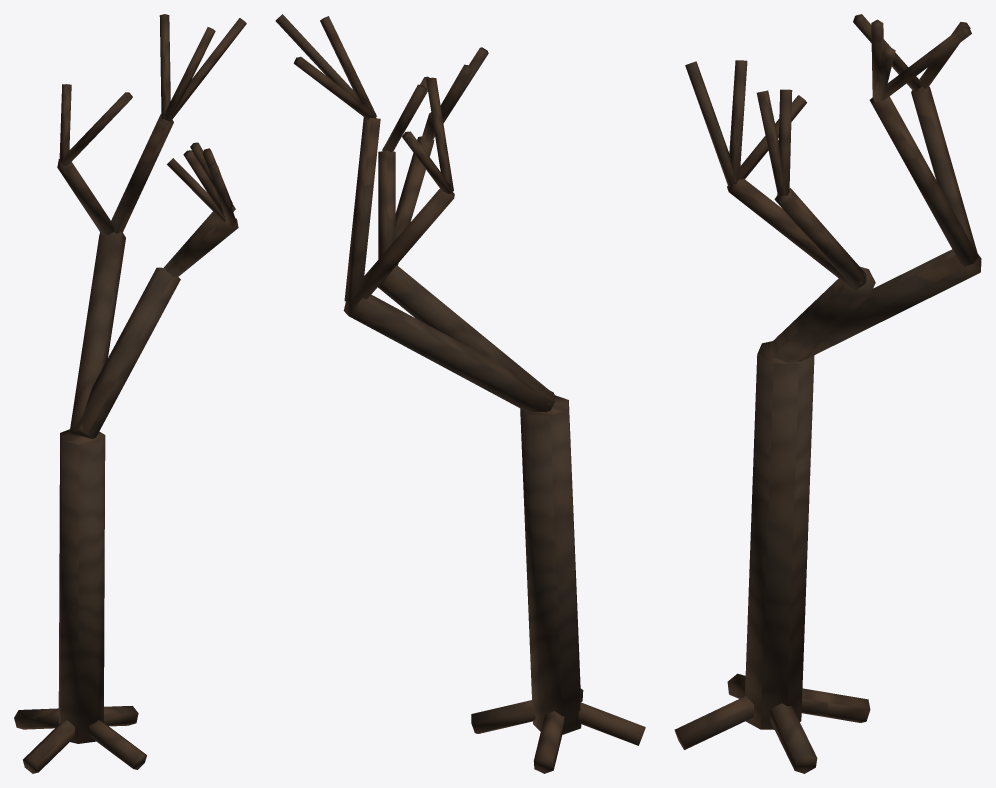
File: R21_dead_tree_v2.glb
The picture shows the model from 3 angles, left to right: view 1: azimuth 30°, elevation 25°; view 2: azimuth 150°, elevation 25°; view 3: azimuth 270°, elevation 25°; orthographic projection. The views are drawn at different scales.
Visible parts, largest first — view 1: R21_dead_tree_v2; view 2: R21_dead_tree_v2; view 3: R21_dead_tree_v2.
Boxes of the visible parts, <box> form: R21_dead_tree_v2: <box>14,14,246,773</box>; R21_dead_tree_v2: <box>275,14,645,773</box>; R21_dead_tree_v2: <box>674,14,981,773</box>.
Bounding box in the file's own units: 2.69 × 6 × 2.03.
1 material, 1 textured.
